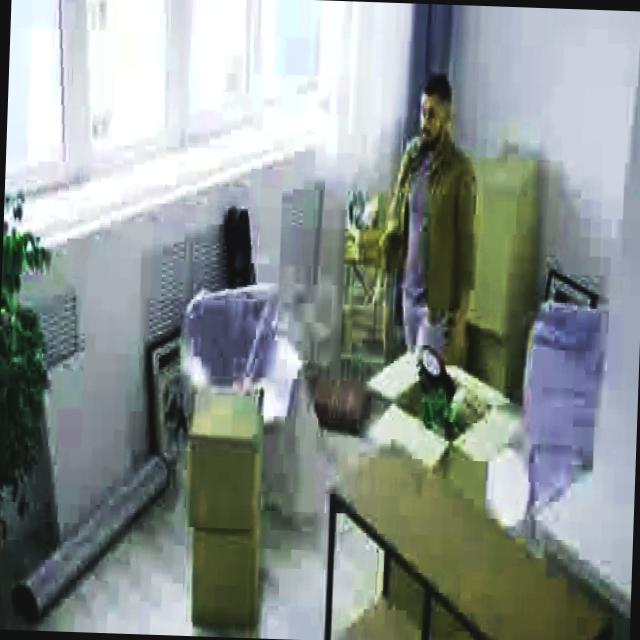Box: (178, 391, 262, 522), (190, 522, 264, 622)
